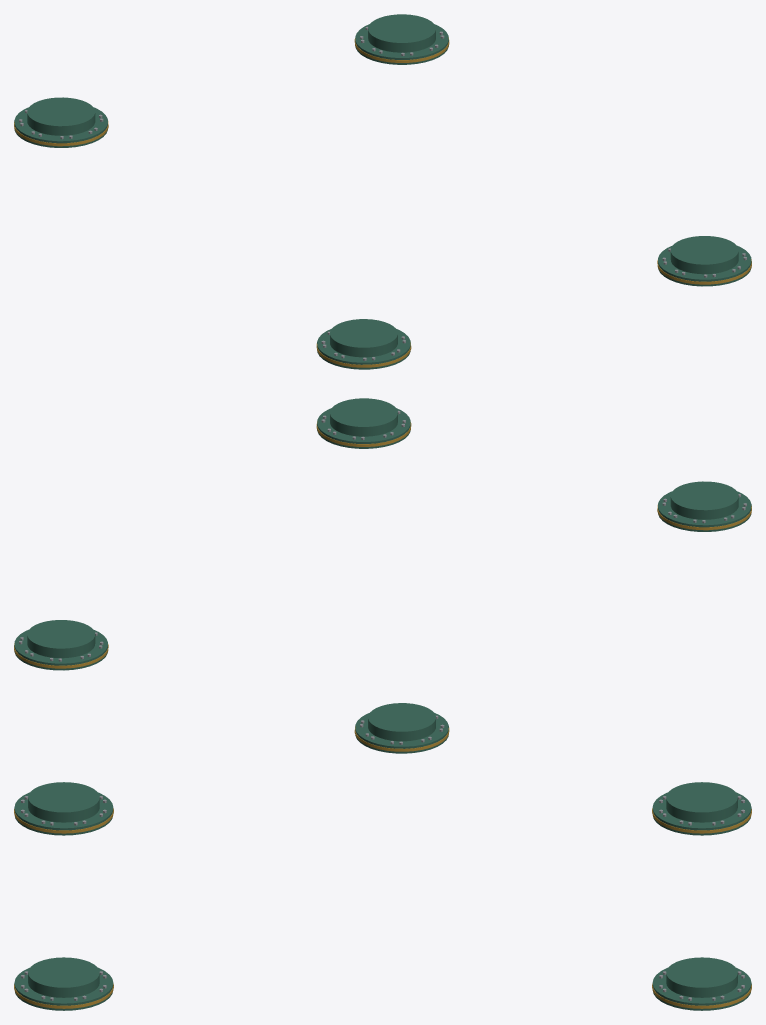
The model's file is hangar2_mounts.obj.
3 renders of one model, top to bottom at view 1: azimuth 30°, elevation 25°; view 2: azimuth 150°, elevation 25°; view 3: azimuth 270°, elevation 25°, orthographic. The views are drawn at different scales.
Parts seen in each view (by area): view 1: hangar2_mounts; view 2: hangar2_mounts; view 3: hangar2_mounts.
Part boxes in pixels (x1=…): hangar2_mounts: x1=14, y1=14, x2=751, y2=369; hangar2_mounts: x1=14, y1=398, x2=751, y2=753; hangar2_mounts: x1=14, y1=782, x2=751, y2=1010.
Bounding box in the file's own units: 6.45 × 0.246 × 9.25.
